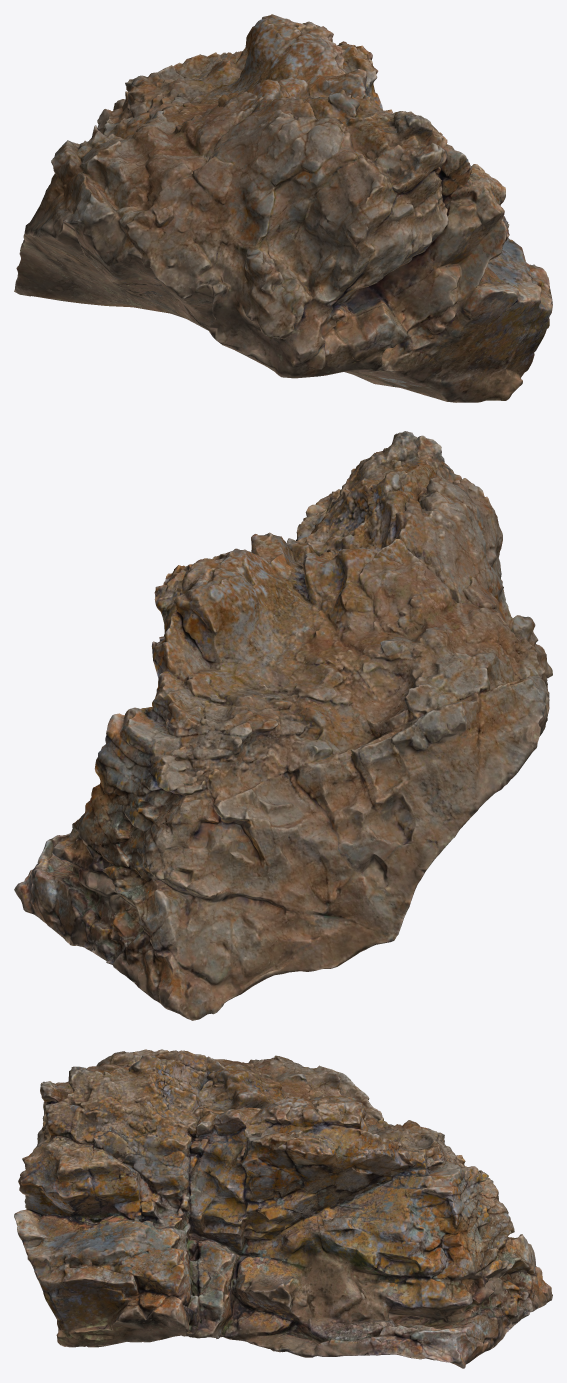
Rendered from road_boulder.glb.
The picture shows the model from 3 angles, top to bottom: view 1: azimuth 30°, elevation 25°; view 2: azimuth 150°, elevation 25°; view 3: azimuth 270°, elevation 25°; orthographic projection. The views are drawn at different scales.
Visible parts, largest first — view 1: road_boulder; view 2: road_boulder; view 3: road_boulder.
Part boxes in pixels (x1,y1,x2,y2): road_boulder: (14,14,552,402); road_boulder: (14,431,552,1020); road_boulder: (14,1049,552,1368).
Size of the model in its own units: 1.27 by 1 by 1.83.
1 material, 1 textured.
